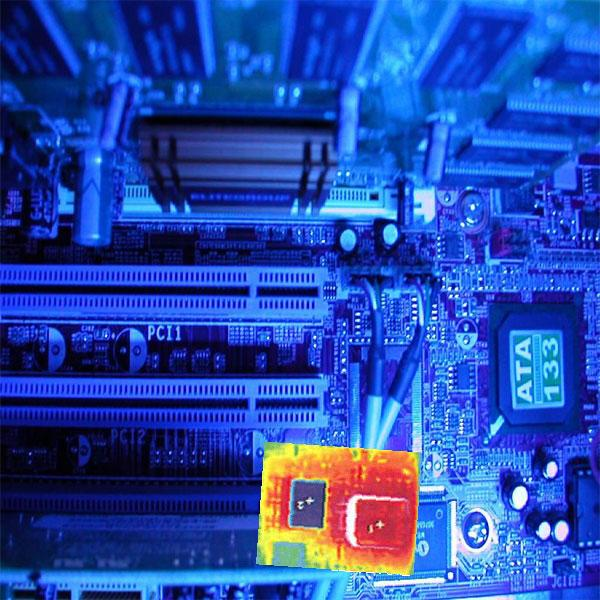componente_T: (252, 442, 428, 577)
